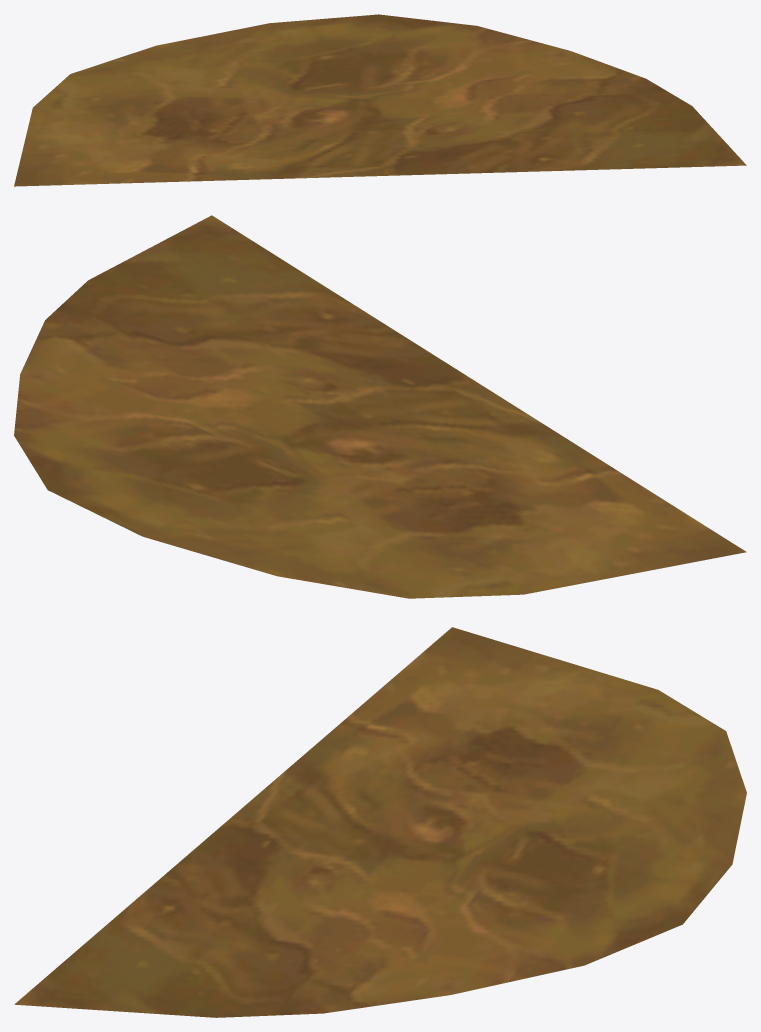
Rendered from HTOWN01_GARDEN03.fbx.
3 renders of one model, top to bottom at view 1: azimuth 30°, elevation 25°; view 2: azimuth 150°, elevation 25°; view 3: azimuth 270°, elevation 25°, orthographic. The views are drawn at different scales.
Parts seen in each view (by area): view 1: HTOWN01_GARDEN03; view 2: HTOWN01_GARDEN03; view 3: HTOWN01_GARDEN03.
Boxes of the visible parts, left/top/right/bottom form: HTOWN01_GARDEN03: left=14, top=14, right=746, bottom=186; HTOWN01_GARDEN03: left=14, top=215, right=746, bottom=598; HTOWN01_GARDEN03: left=14, top=627, right=746, bottom=1017.
Bounding box in the file's own units: 41620 × 0.0069 × 32993.
Materials: 1 (1 with a texture image).
